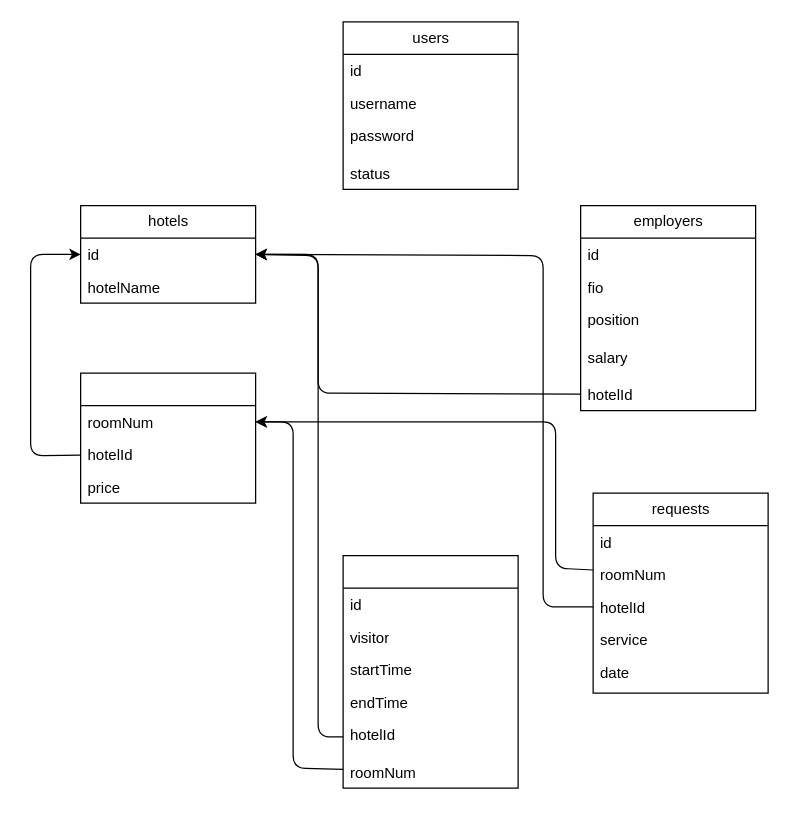
Image size: 790x814. Some labels were removed from this diagram. The box of each missing label's shape, as (x1, y1, x2, y2) in pixels:
journal: (342, 554, 518, 788)
rooms: (79, 372, 256, 503)
